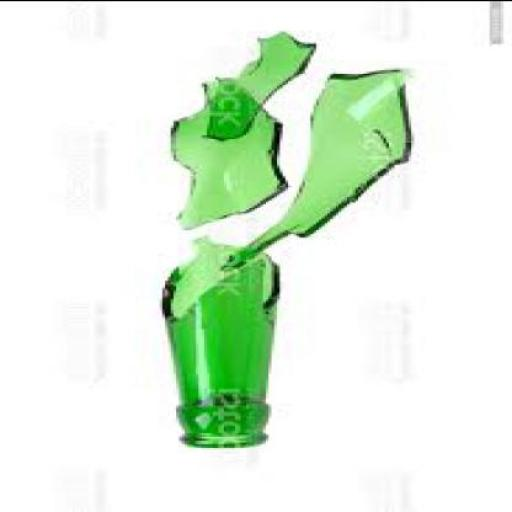glass: (218, 64, 411, 266), (162, 234, 277, 445), (168, 75, 286, 225), (201, 30, 313, 140)
